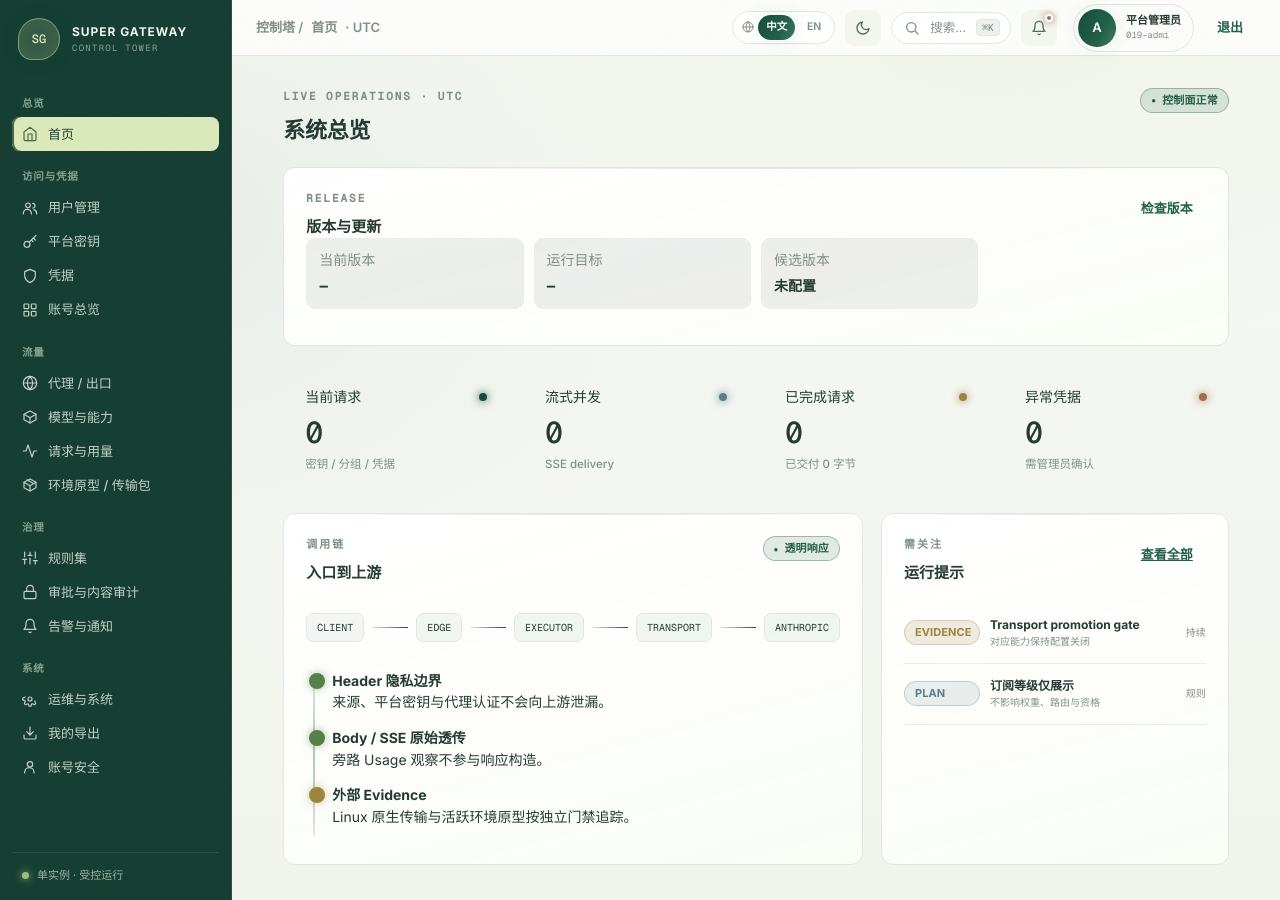
Test case: opens a detail dialog, marks one read on open, and marks all read
Click the button named "消息与通知".
click(1039, 28)  # box [1021, 10, 1057, 46]
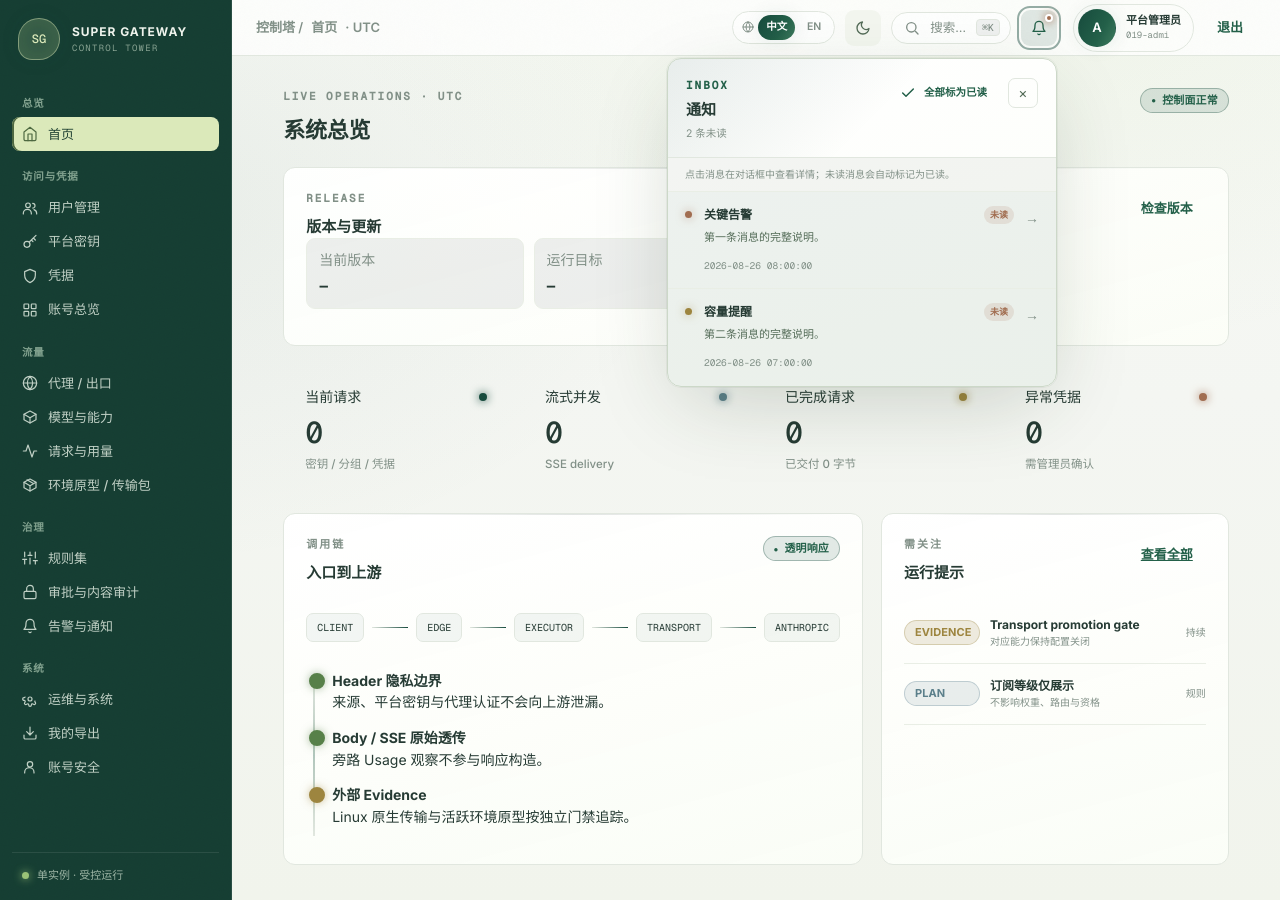
expect the text "2 条未读" is shown: met, box [686, 126, 729, 142]
Click the button "关键告警 未读 第一条消息的完整说明。 2026-08-26 08:00:00 →".
click(728, 214)  # box [668, 192, 1056, 288]
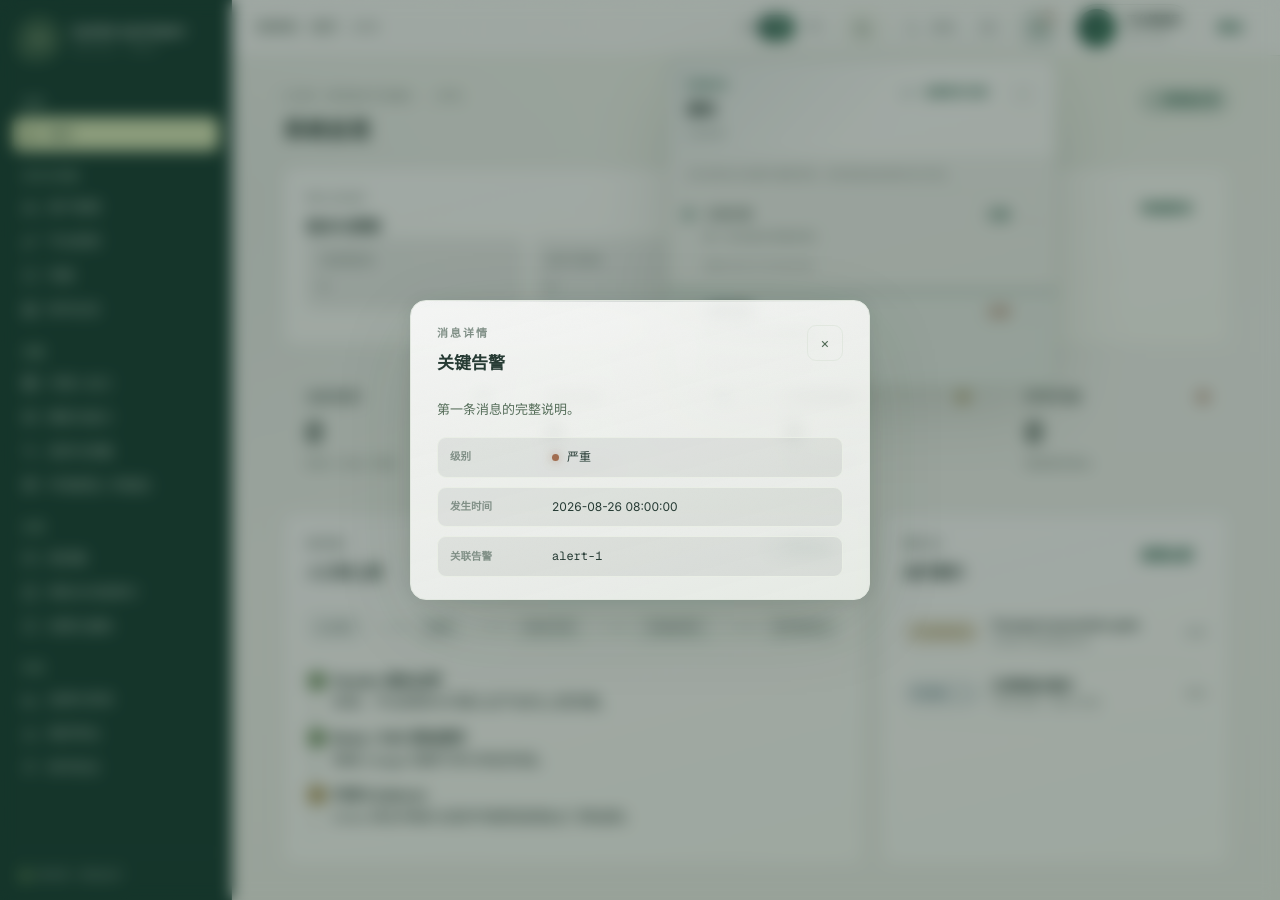
expect the text "消息详情" is shown: met, box [437, 326, 489, 340]
expect the text "第一条消息的完整说明。" is shown: met, box [437, 401, 580, 417]
expect the text "alert-1" is shown: met, box [552, 548, 602, 564]
Click the button named "关闭".
click(825, 343)  # box [807, 325, 843, 361]
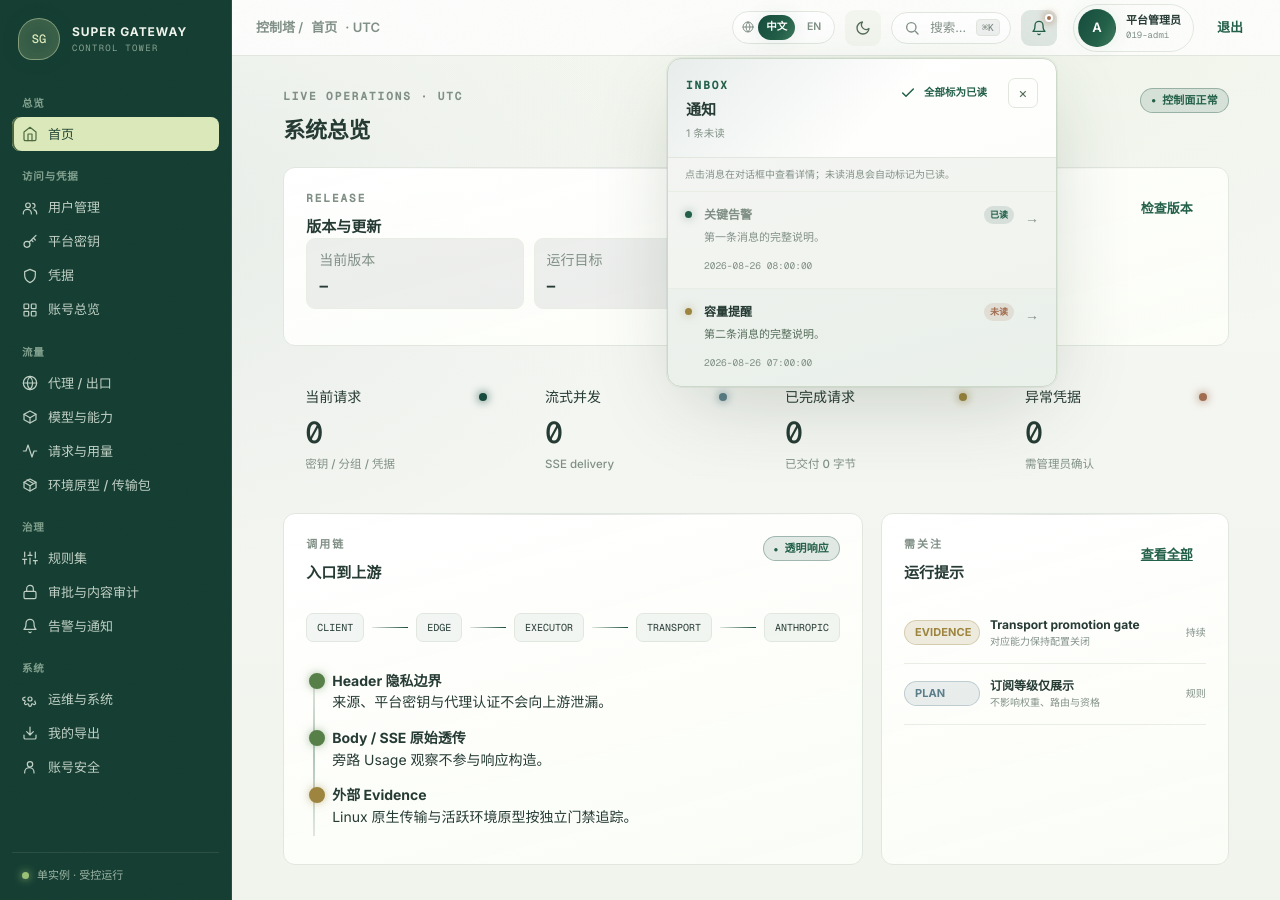
Click the button "全部标为已读".
click(944, 93)  # box [887, 76, 1000, 109]
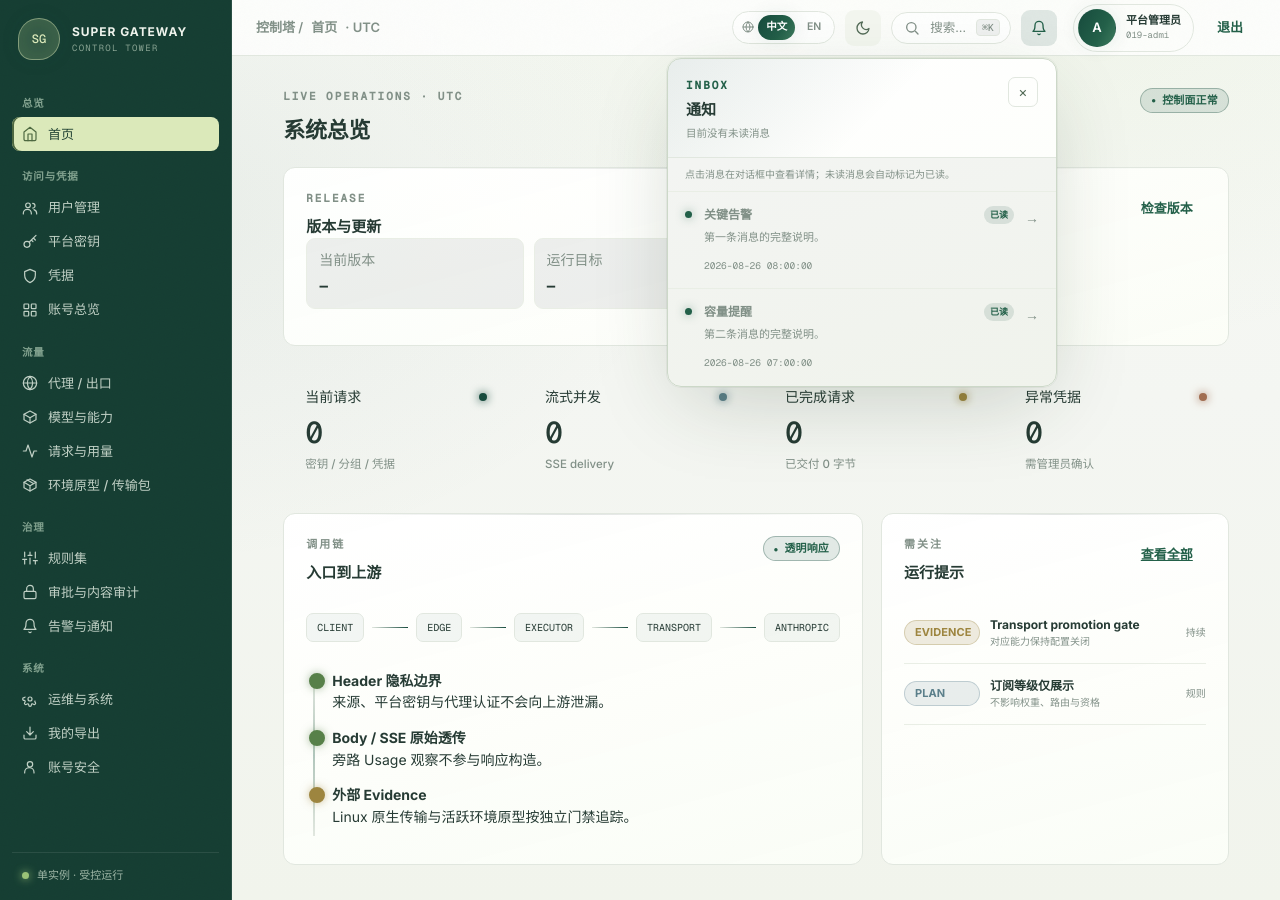
expect the text "目前没有未读消息" is shown: met, box [686, 126, 770, 142]
